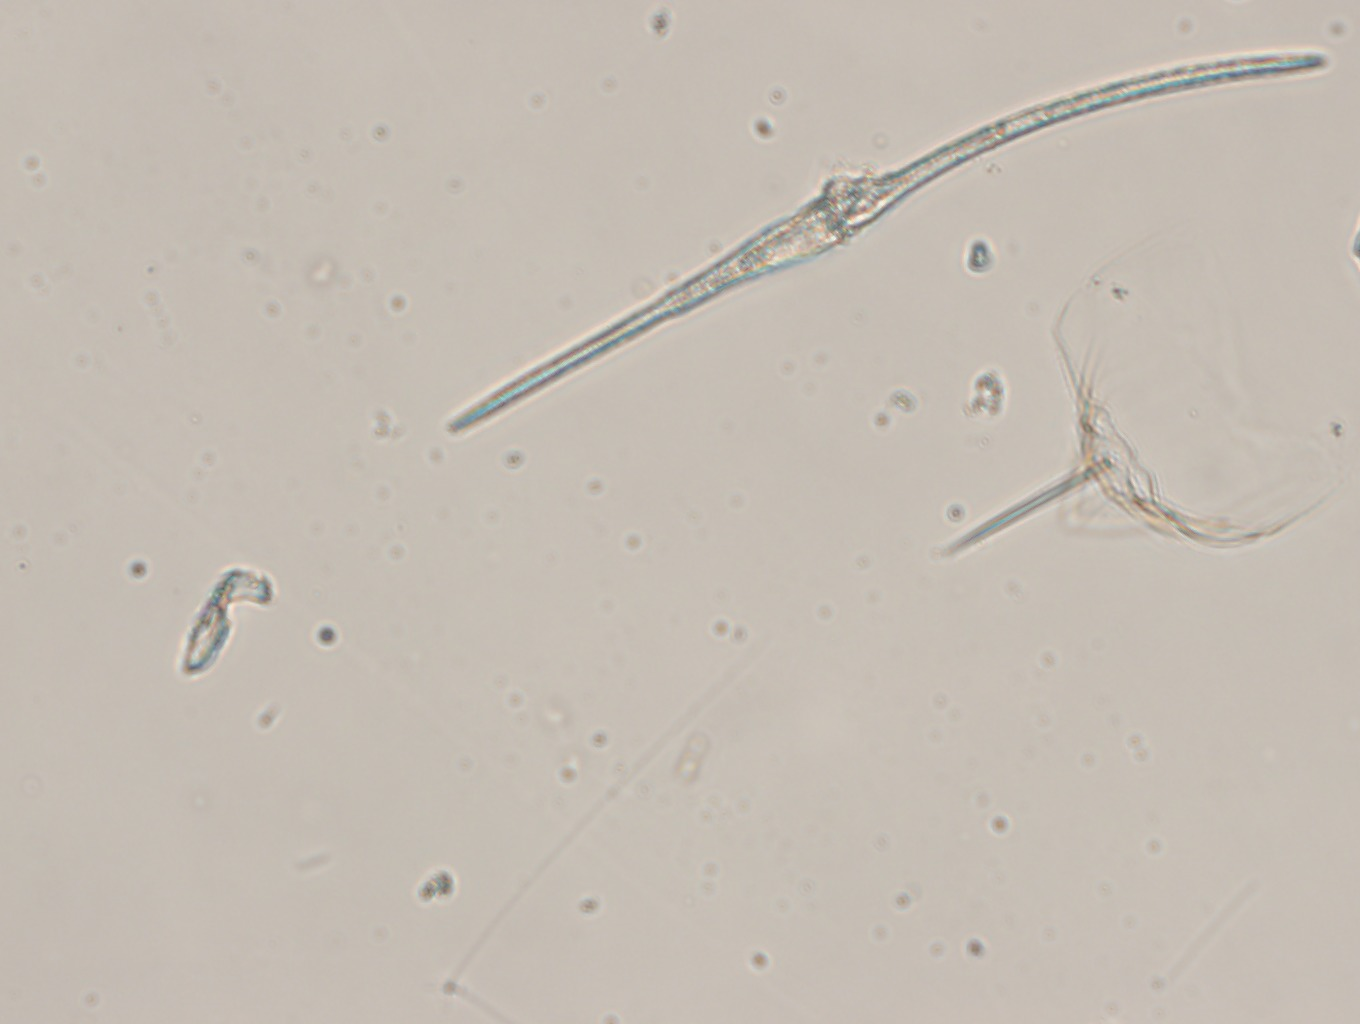ceratium fusus: (447, 51, 1350, 437)
ditylum: (937, 239, 1360, 579)
